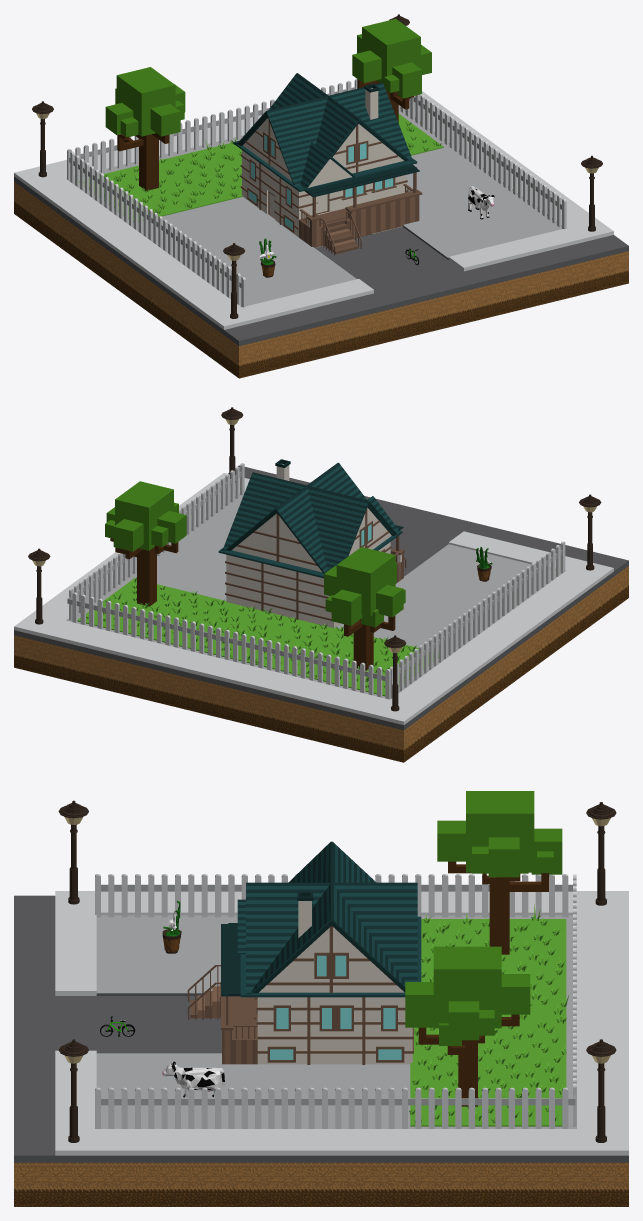
The picture shows the model from 3 angles, top to bottom: view 1: azimuth 30°, elevation 25°; view 2: azimuth 150°, elevation 25°; view 3: azimuth 270°, elevation 25°; orthographic projection. The views are drawn at different scales.
Visible parts, largest first — view 1: Cube.004, Cube.793, ANIMAL_VACA; view 2: Cube.004, Cube.793; view 3: Cube.004, Cube.793, ANIMAL_VACA, OBJRANDOM_MONJA BLANCA.
Part boxes in pixels (x1=…): Cube.004: x1=14, y1=14, x2=628, y2=378; Cube.793: x1=233, y1=73, x2=422, y2=255; ANIMAL_VACA: x1=468, y1=186, x2=494, y2=219; Cube.004: x1=14, y1=407, x2=628, y2=762; Cube.793: x1=218, y1=459, x2=406, y2=627; Cube.004: x1=14, y1=791, x2=628, y2=1206; Cube.793: x1=187, y1=841, x2=421, y2=1064; ANIMAL_VACA: x1=162, y1=1061, x2=225, y2=1098; OBJRANDOM_MONJA BLANCA: x1=162, y1=901, x2=181, y2=953.
Bounding box in the file's own units: 4000 × 1604 × 4000.
27 materials, 4 textured.
